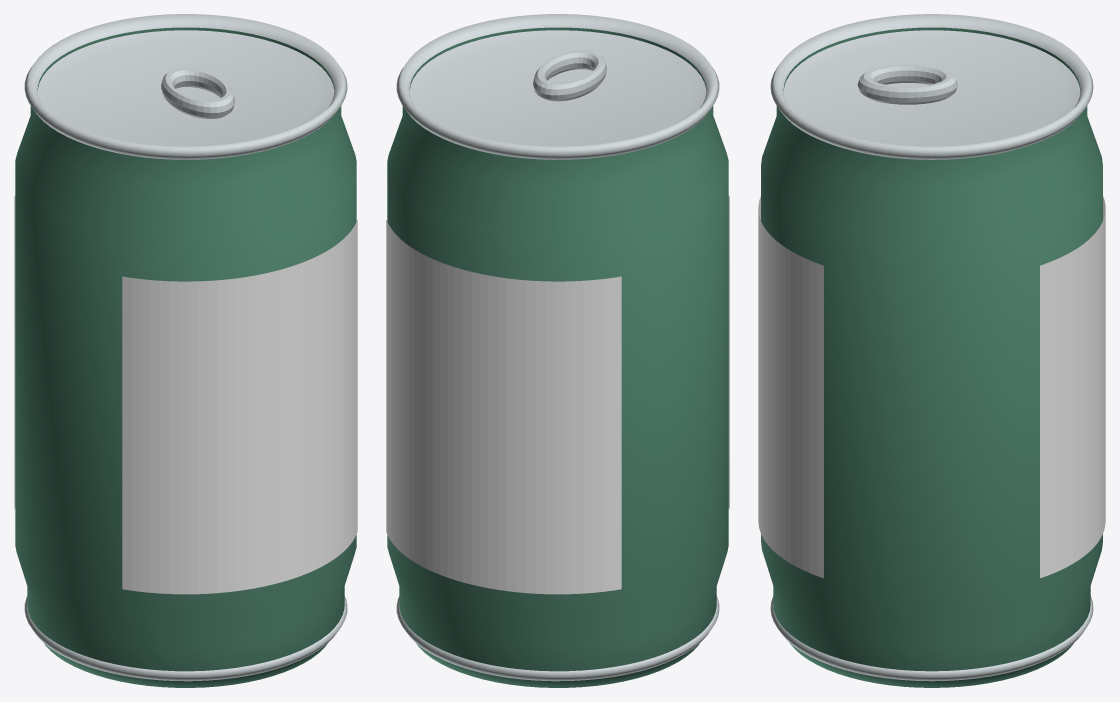
Rendered from drink-can.glb.
The picture shows the model from 3 angles, left to right: view 1: azimuth 30°, elevation 25°; view 2: azimuth 150°, elevation 25°; view 3: azimuth 270°, elevation 25°; orthographic projection.
Parts seen in each view (by area): view 1: Drawn aluminium body, LabelFront, Rolled rim, LabelBack; view 2: Drawn aluminium body, LabelBack, Rolled rim, LabelFront; view 3: Drawn aluminium body, Rolled rim, LabelFront, LabelBack.
Part boxes in pixels (<box>): Drawn aluminium body: <box>15,27,356,687</box>; LabelFront: <box>122,220,357,594</box>; Rolled rim: <box>24,14,347,681</box>; LabelBack: <box>14,195,15,509</box>; Drawn aluminium body: <box>387,27,728,687</box>; LabelBack: <box>386,220,621,594</box>; Rolled rim: <box>396,14,719,681</box>; LabelFront: <box>728,195,729,509</box>; Drawn aluminium body: <box>761,27,1102,687</box>; Rolled rim: <box>770,14,1093,681</box>; LabelFront: <box>758,196,823,578</box>; LabelBack: <box>1040,196,1105,578</box>.
Bounding box in the file's own units: 0.5643 × 1 × 0.5734.
